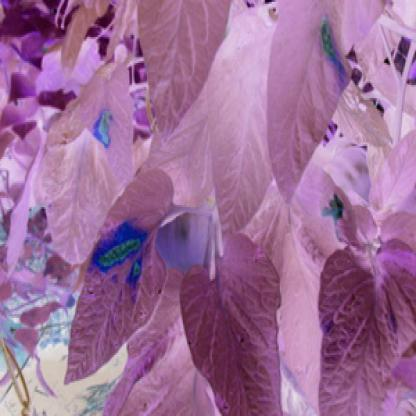tomato early blight leaf: (62, 161, 187, 381)
